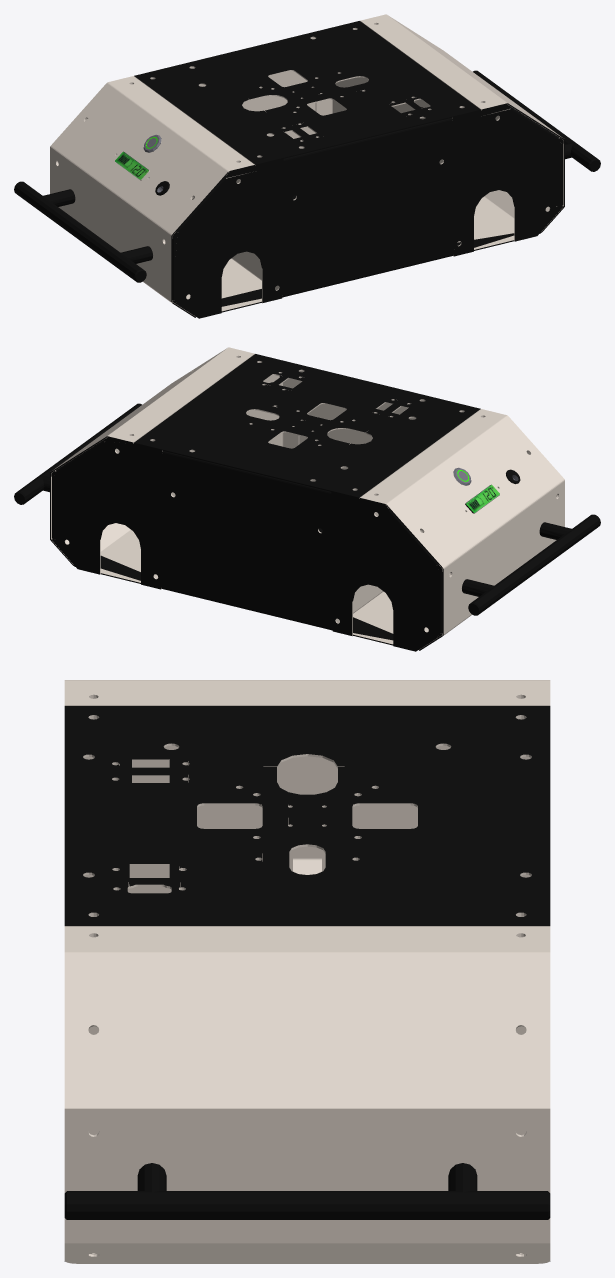
3 views of the same model, one above another, from view 1: azimuth 30°, elevation 25°; view 2: azimuth 150°, elevation 25°; view 3: azimuth 270°, elevation 25° (orthographic). The views are drawn at different scales.
Visible parts, largest first — view 1: mobile_base; view 2: mobile_base; view 3: mobile_base.
Boxes of the visible parts, box(x1,y1,x2,y2) form: mobile_base: box(14, 14, 600, 318); mobile_base: box(14, 347, 600, 651); mobile_base: box(64, 680, 550, 1263).
Size of the model in its own units: 0.444 by 0.2 by 0.1285.
Materials: 5 (1 with a texture image).
